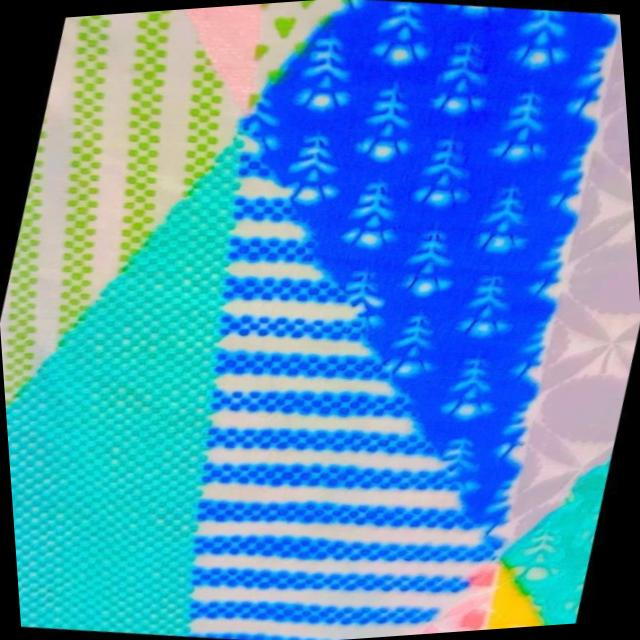color issues: (94, 0, 640, 588), (328, 527, 593, 640)
